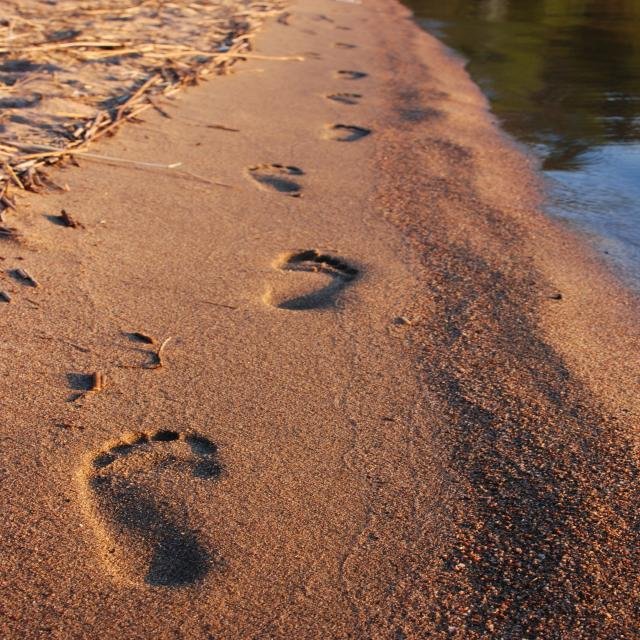human_foot_print: (18, 76, 482, 640)
